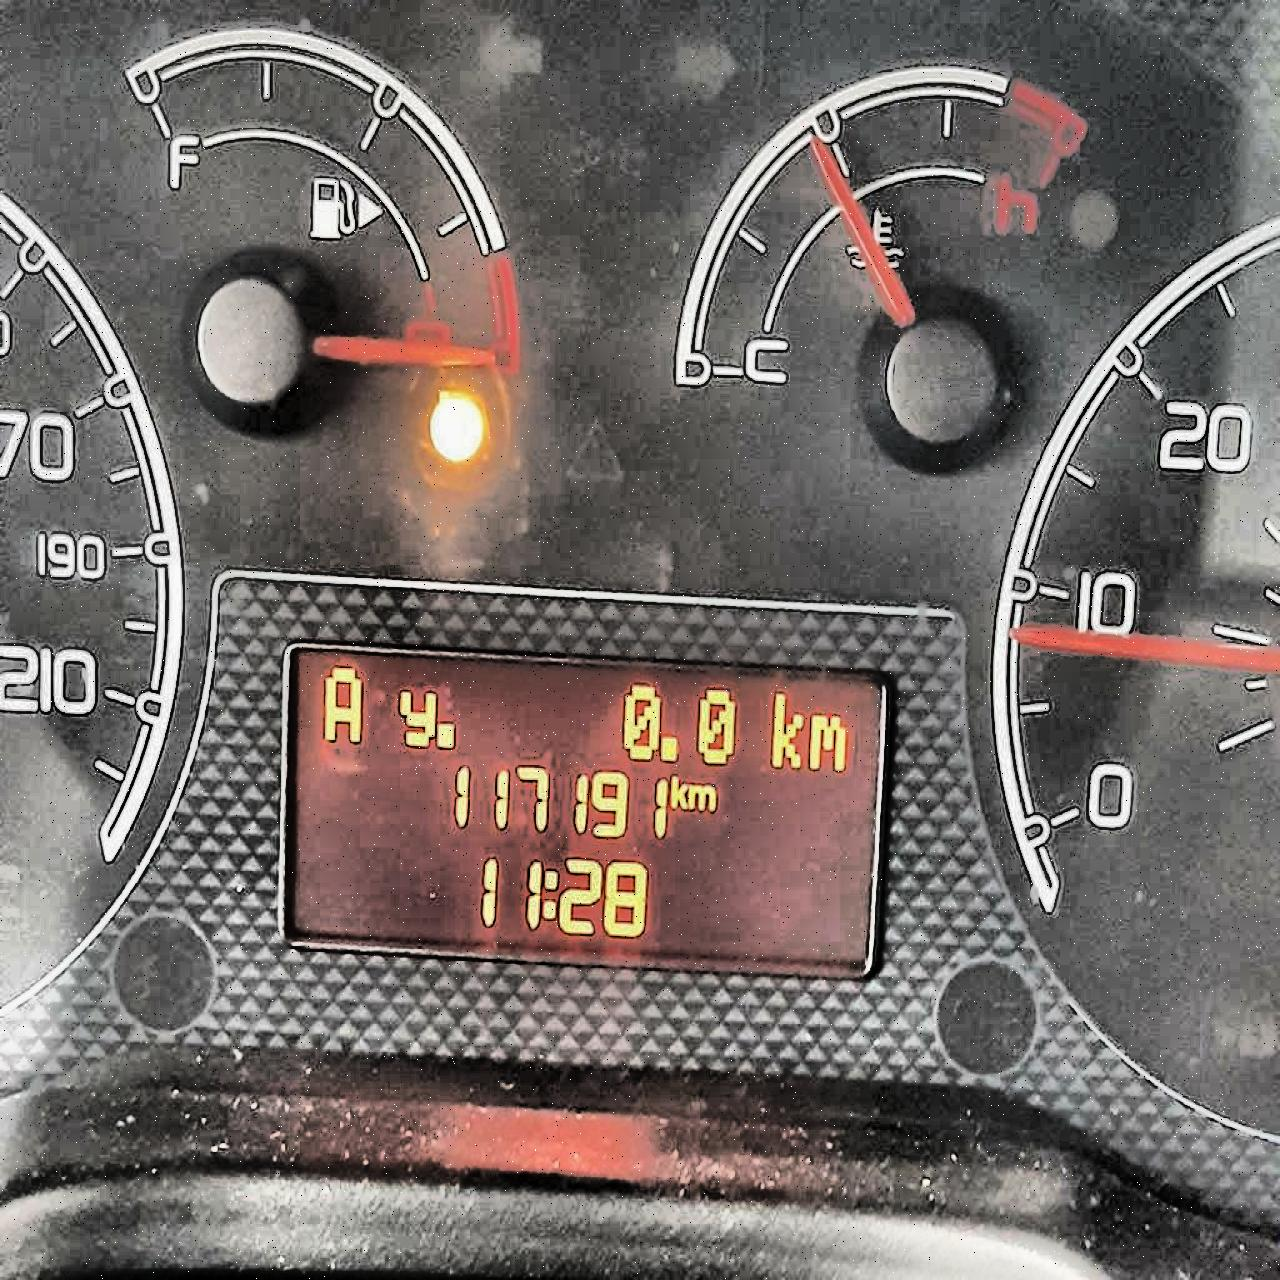-: (434, 716, 456, 750), (658, 728, 678, 762)
0: (693, 680, 737, 767), (618, 676, 661, 761)
1: (476, 853, 498, 927), (520, 856, 542, 933), (450, 761, 471, 829), (490, 763, 511, 830), (648, 774, 667, 840), (571, 768, 590, 835)
2: (558, 852, 602, 937)
7: (512, 761, 552, 832)
8: (602, 855, 649, 939)
9: (591, 767, 629, 838)
X: (319, 660, 365, 744), (765, 688, 805, 774), (395, 685, 436, 750), (806, 709, 849, 772), (688, 778, 717, 812), (542, 866, 558, 921), (667, 771, 688, 811)
odometer: (272, 635, 893, 980)
